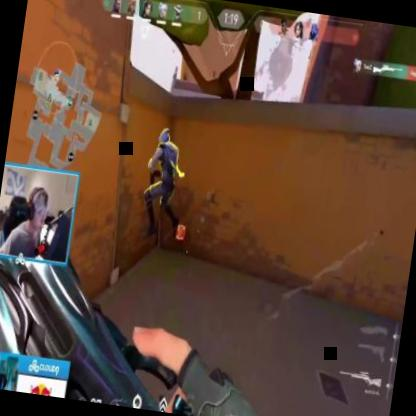enemy: (136, 124, 192, 240)
enemy_head: (156, 126, 170, 148)
